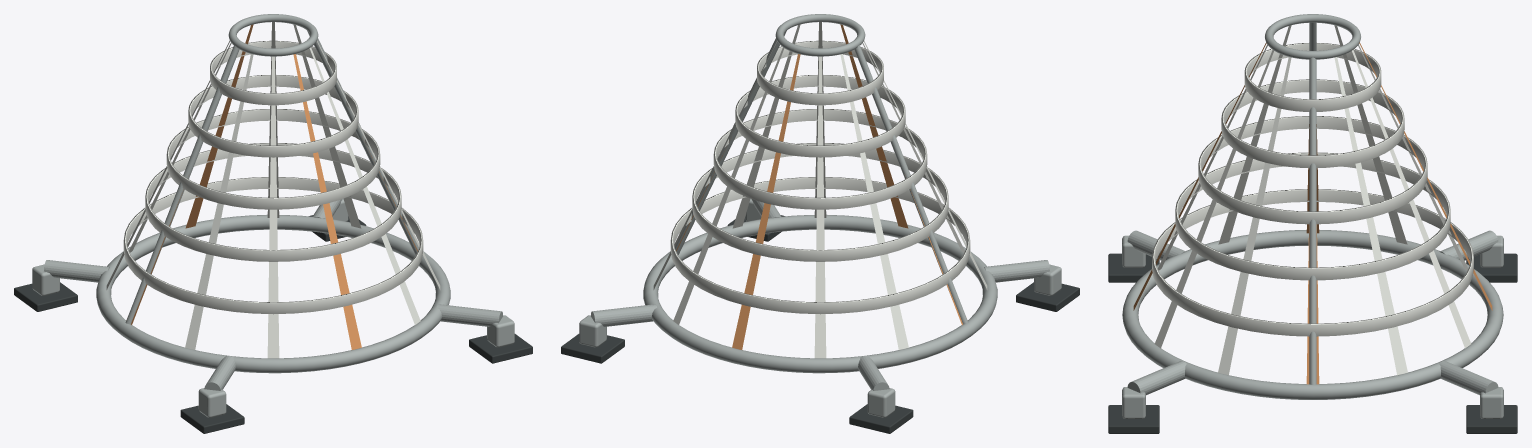
File: spacecraft-parachute-packing-hall-spacecraft-parachute-7e727799__32089.glb
3 views of the same model, side by side, from view 1: azimuth 30°, elevation 25°; view 2: azimuth 150°, elevation 25°; view 3: azimuth 270°, elevation 25° (orthographic). The views are drawn at different scales.
Visible parts, largest first — view 1: spacecraft-parachute-packing-hall-ribbon-drogue-canopy; view 2: spacecraft-parachute-packing-hall-ribbon-drogue-canopy; view 3: spacecraft-parachute-packing-hall-ribbon-drogue-canopy.
Boxes of the visible parts, <box> form: spacecraft-parachute-packing-hall-ribbon-drogue-canopy: <box>14,14,532,433</box>; spacecraft-parachute-packing-hall-ribbon-drogue-canopy: <box>561,14,1079,433</box>; spacecraft-parachute-packing-hall-ribbon-drogue-canopy: <box>1108,14,1517,433</box>.
Bounding box in the file's own units: 1.12 × 0.952 × 1.12.
